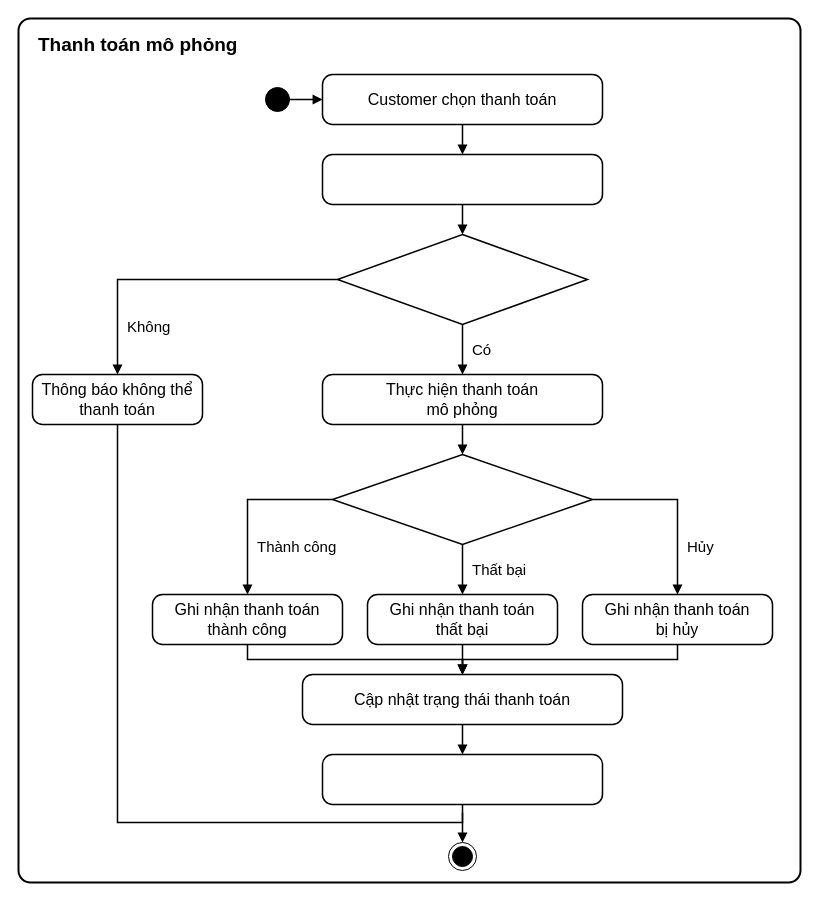
Some shapes in this 818 by 900 pixel diagram are drawn without their labels. The shapes that lost their labels are listed below. From the top down, each one's centre as x and y in pixels, then its label:
At point 462,179: "Hệ thống kiểm tra đơn hàng".
At point 462,279: "Đơn hàng hợp lệ?".
At point 462,499: "Kết quả thanh toán?".
At point 462,779: "Trả kết quả thanh toán".
